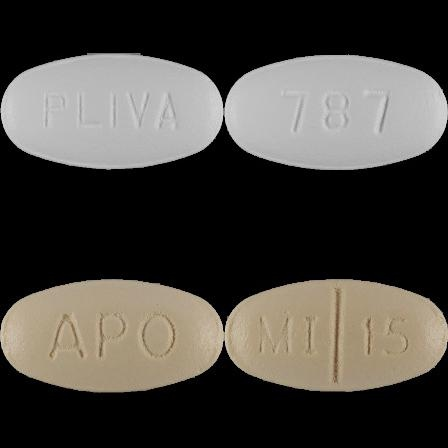68788-9977: (0, 0, 224, 224)
